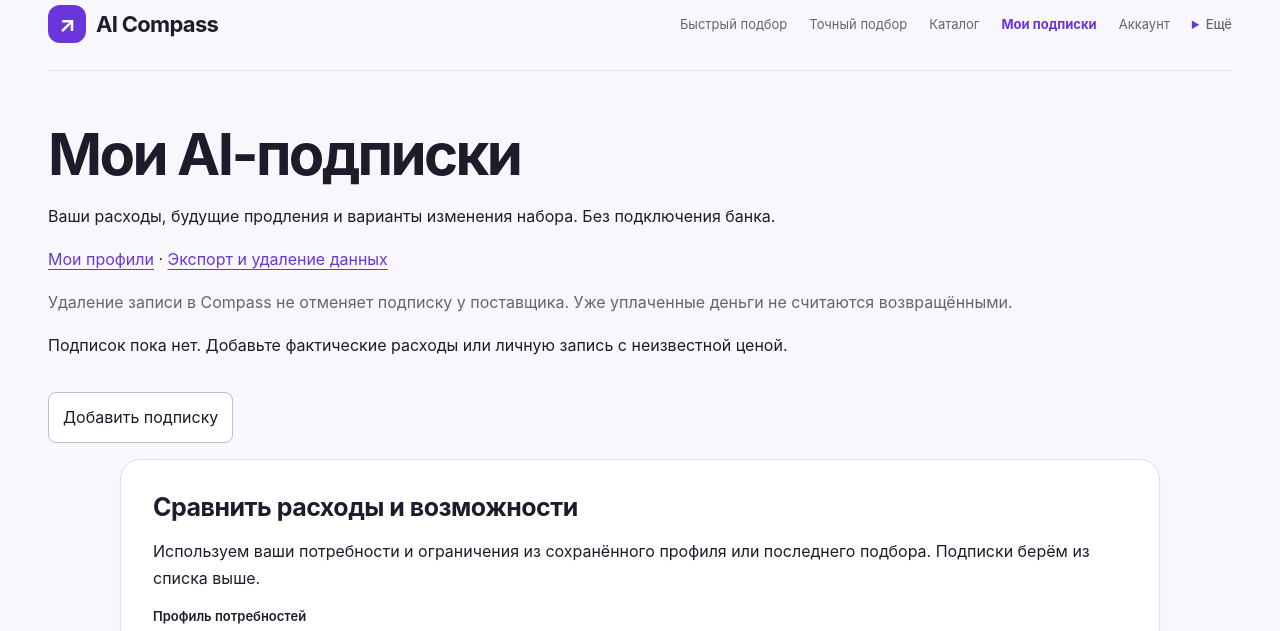
Test case: custom actual price is USER_REPORTED, uses CSRF and server account precondition
The image size is (1280, 631).
Expected: the text "Подписок пока нет" is shown, [48,335,788,355]
Click the button "Добавить подписку" at (141, 417), box [48,392,233,443]
(page scrolled)
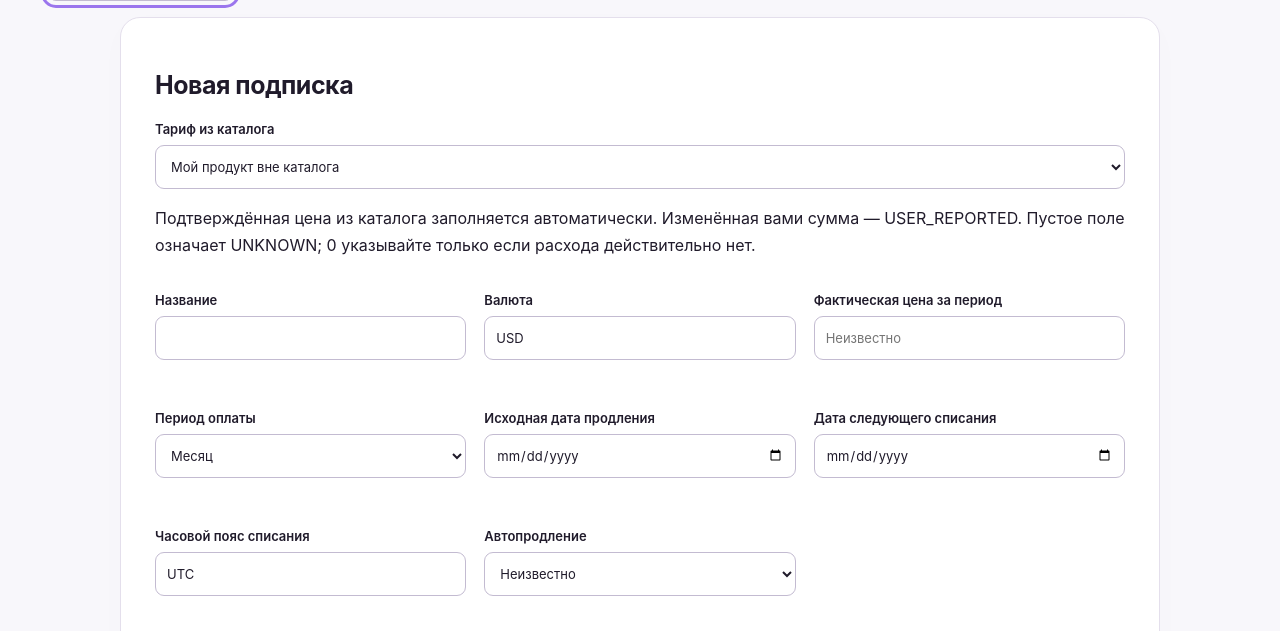
Type "My custom service" into the field labelled "Название" at (311, 338), box [155,316,466,360]
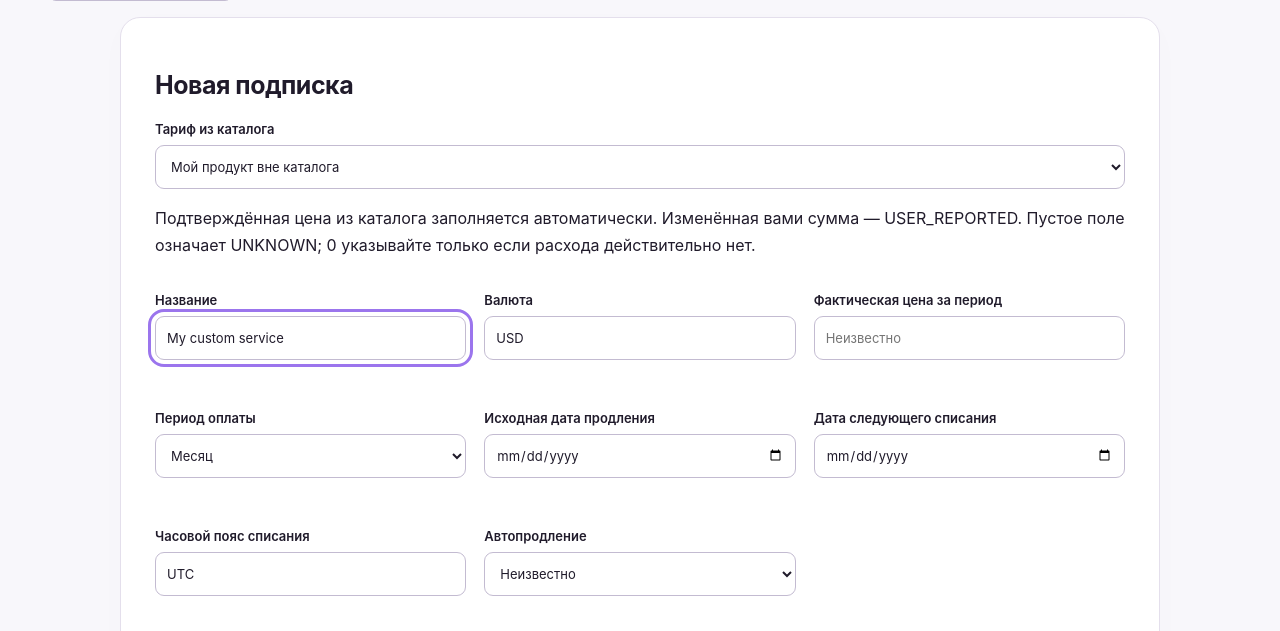
Type "12.34" into the field labelled "Фактическая цена за период" at (969, 338), box [814,316,1125,360]
(page scrolled)
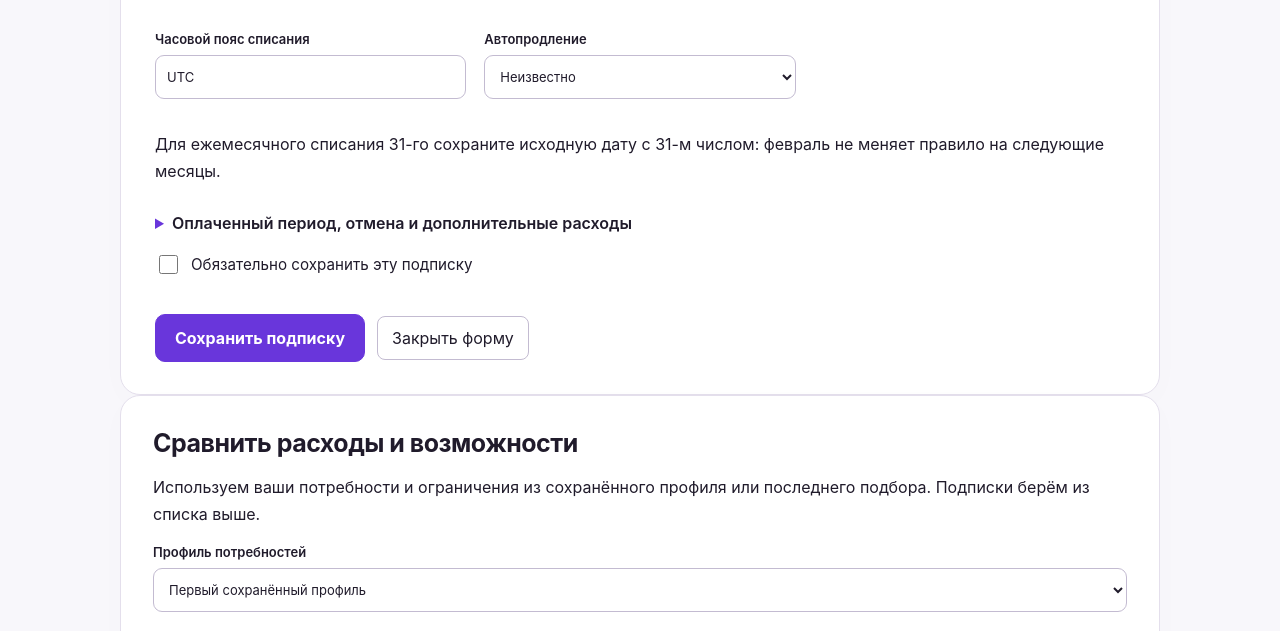
Click the button "Сохранить подписку" at (260, 338), box [155,314,365,362]
(page scrolled)
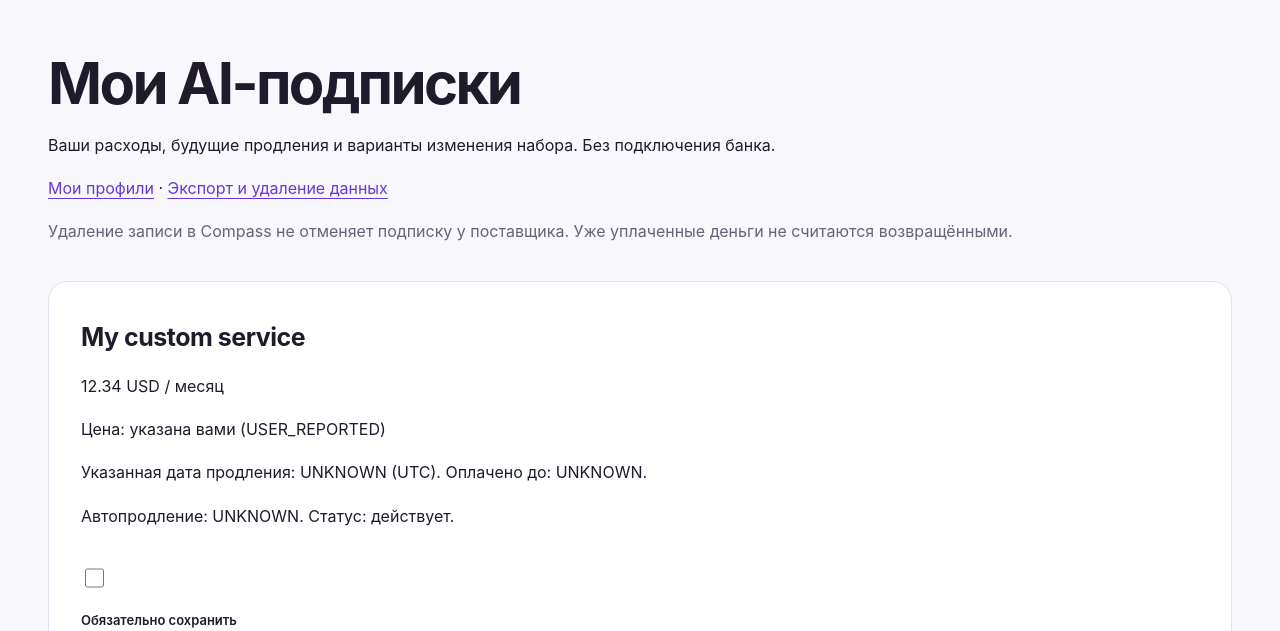
Result: the heading "My custom service" is shown at [81,322,305,352]
